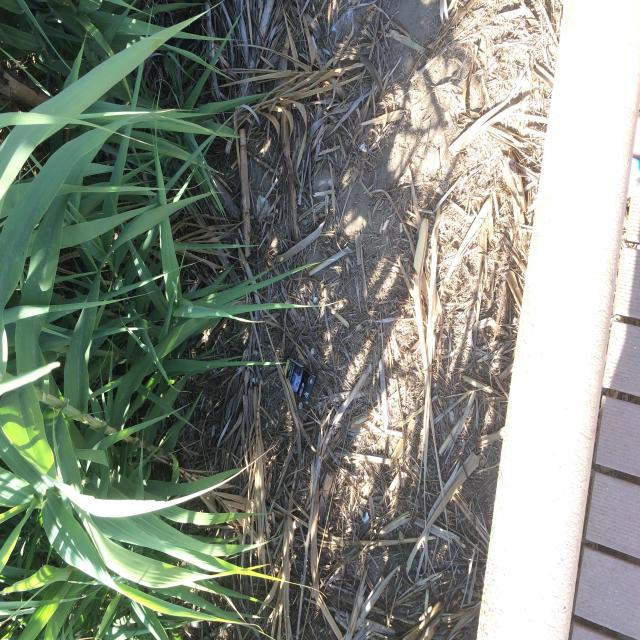litter: (284, 359, 314, 405)
